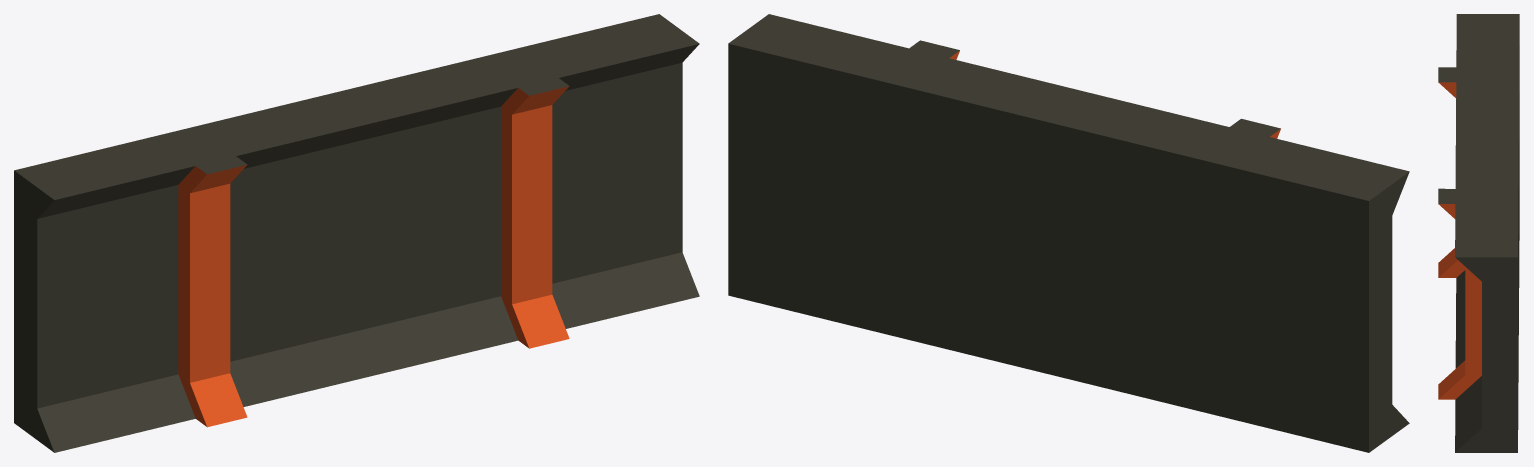
File: WallShort.fbx
3 views of the same model, side by side, from view 1: azimuth 30°, elevation 25°; view 2: azimuth 150°, elevation 25°; view 3: azimuth 270°, elevation 25° (orthographic). The views are drawn at different scales.
Parts seen in each view (by area): view 1: WallSmall; view 2: WallSmall; view 3: WallSmall.
Part boxes in pixels (x1,y1,x2,y2): WallSmall: (14,14,699,452); WallSmall: (728,14,1409,452); WallSmall: (1438,14,1519,452).
Bounding box in the file's own units: 800 × 300 × 113.
